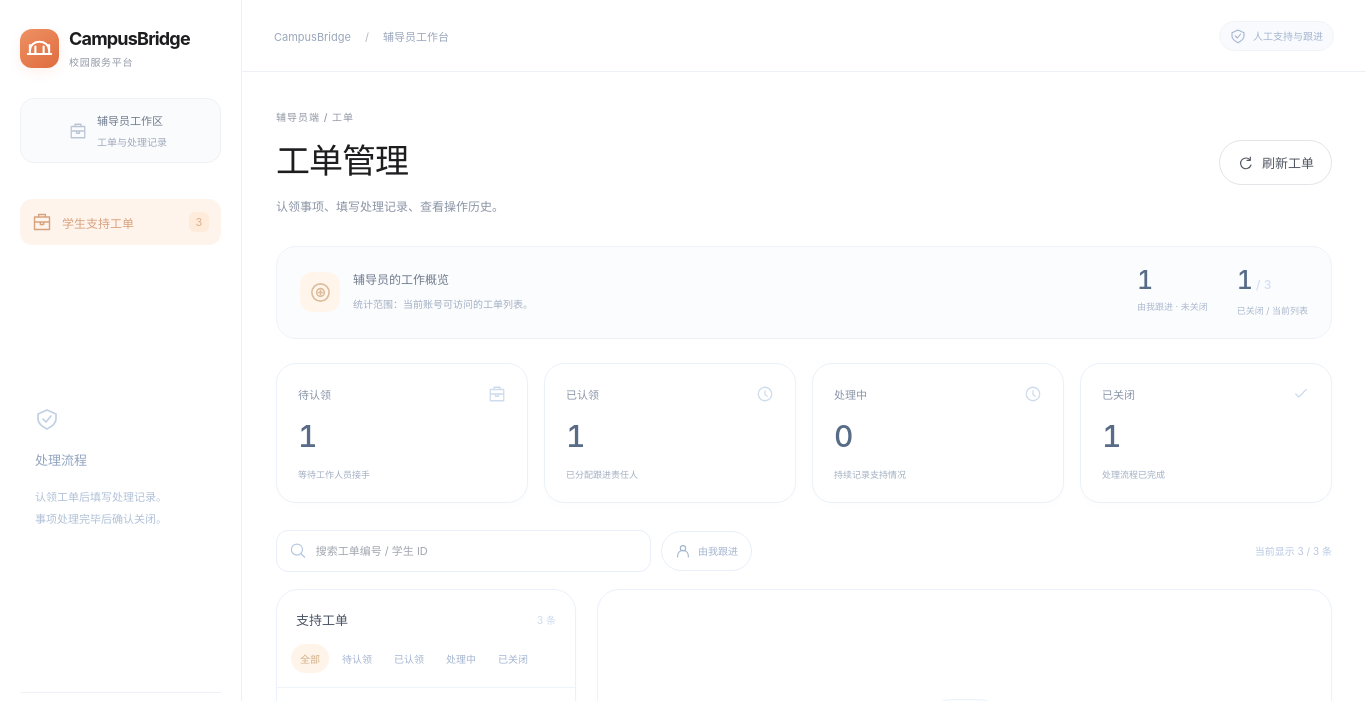
Test: case search and ownership filters combine with server-derived queue counts
Click the button "由我跟进" at (706, 551), box [661, 531, 752, 571]
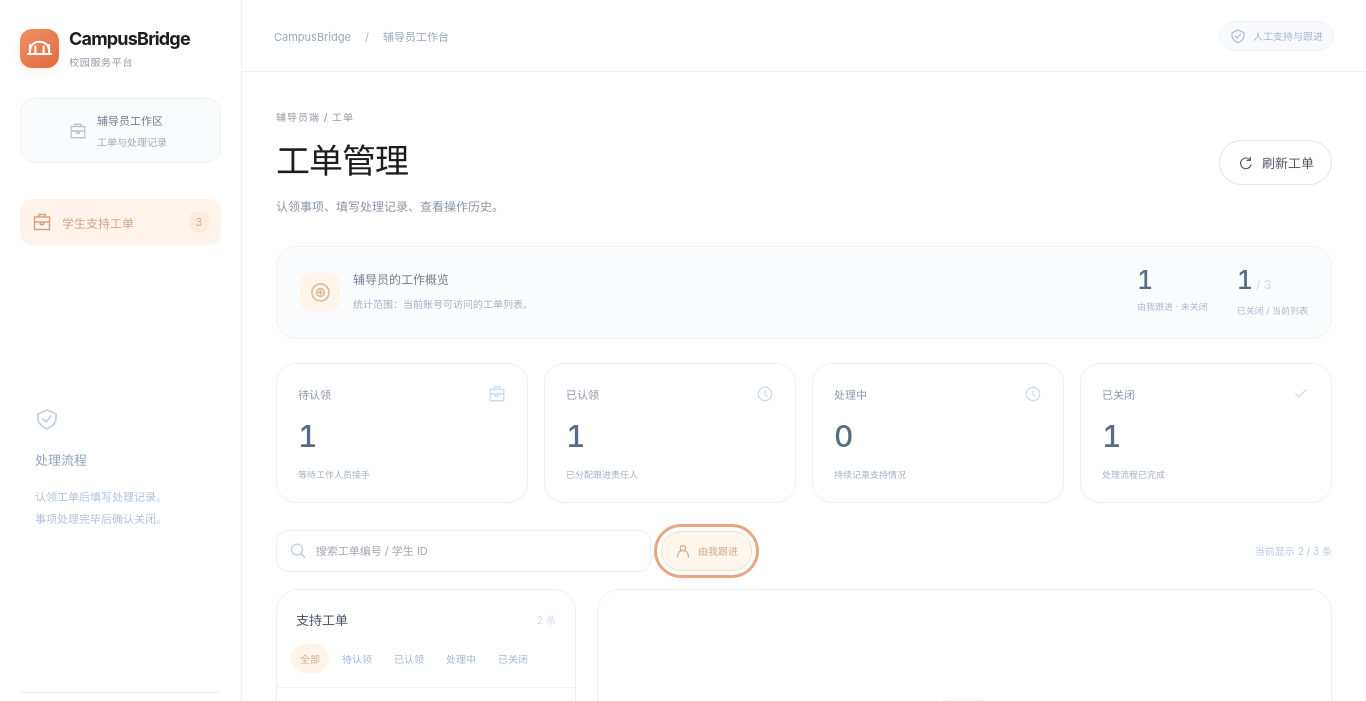
Expected: the text "当前显示 2 / 3 条" is shown, [1255, 543, 1332, 558]
Type "student-three" into the field labelled "搜索工单" at (476, 551), box [316, 531, 637, 571]
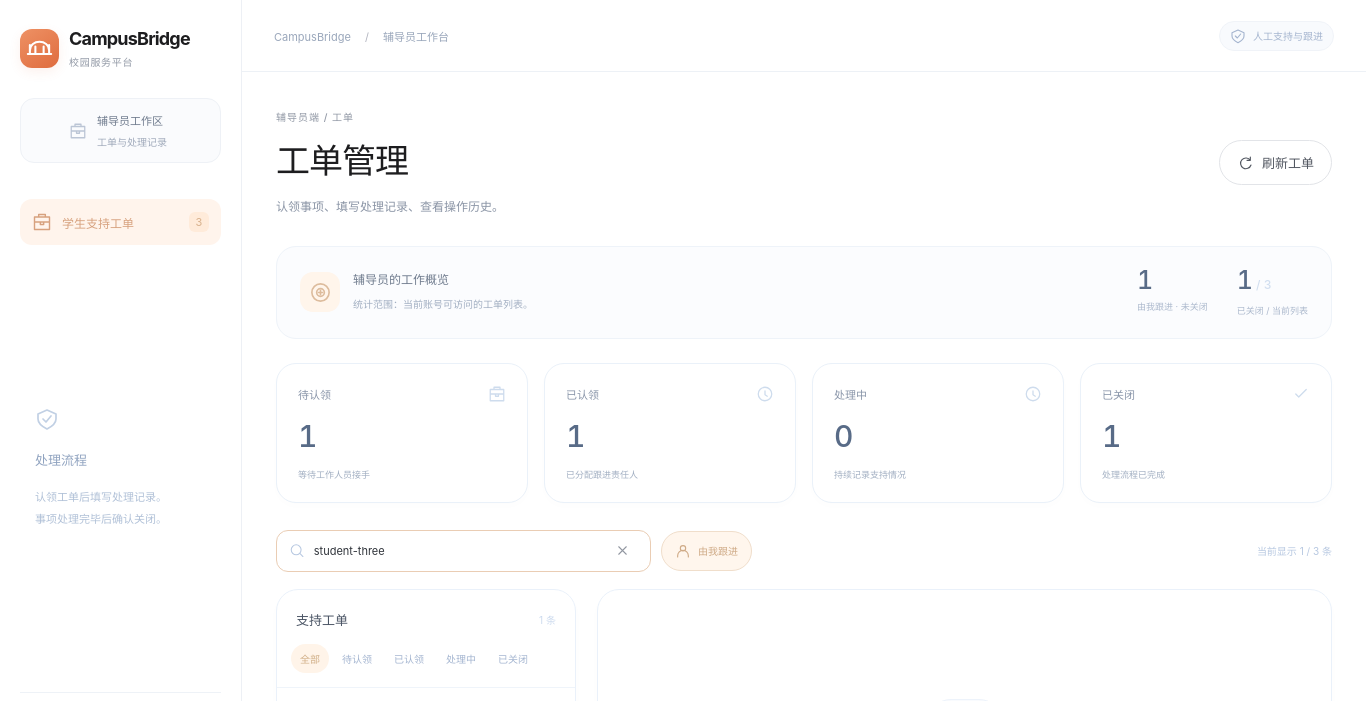
Expected: the text "当前显示 1 / 3 条" is shown, [1257, 543, 1332, 558]
Click the button named "清空搜索" at (622, 551), box [608, 536, 637, 565]
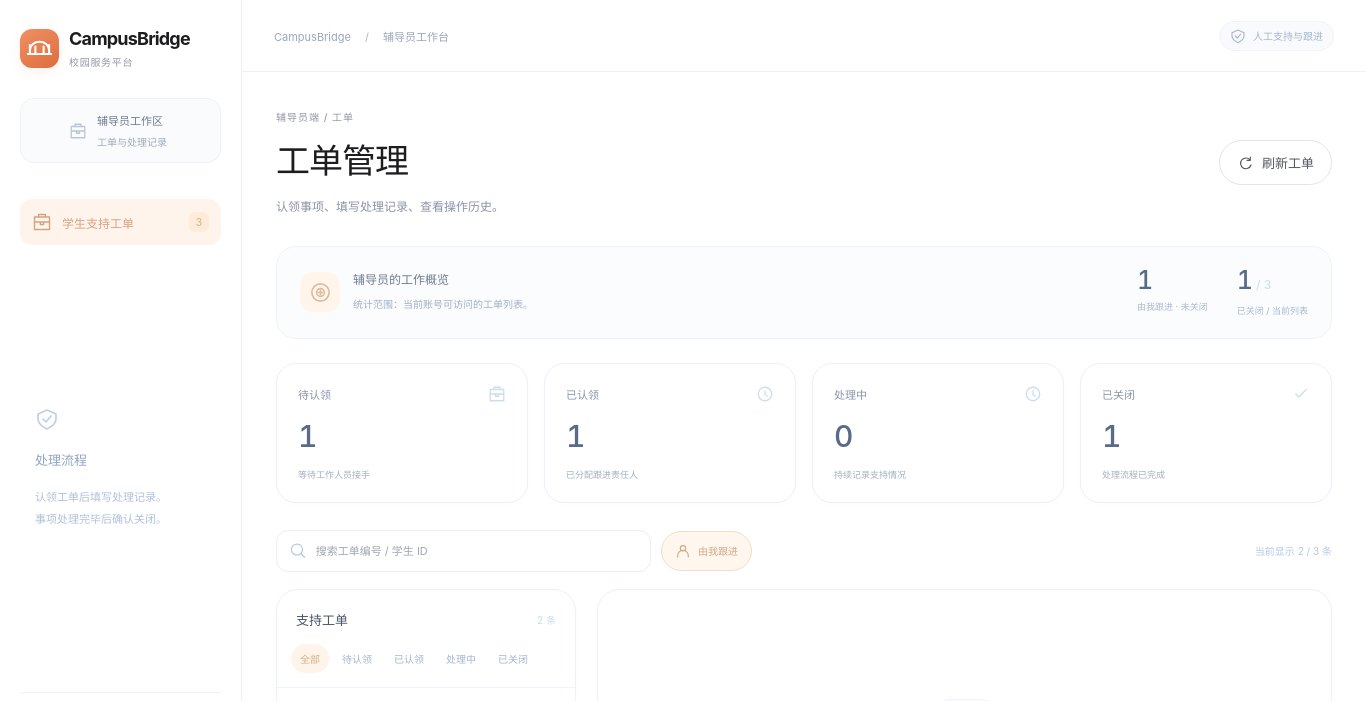
Expected: the text "当前显示 2 / 3 条" is shown, [1255, 543, 1332, 558]
